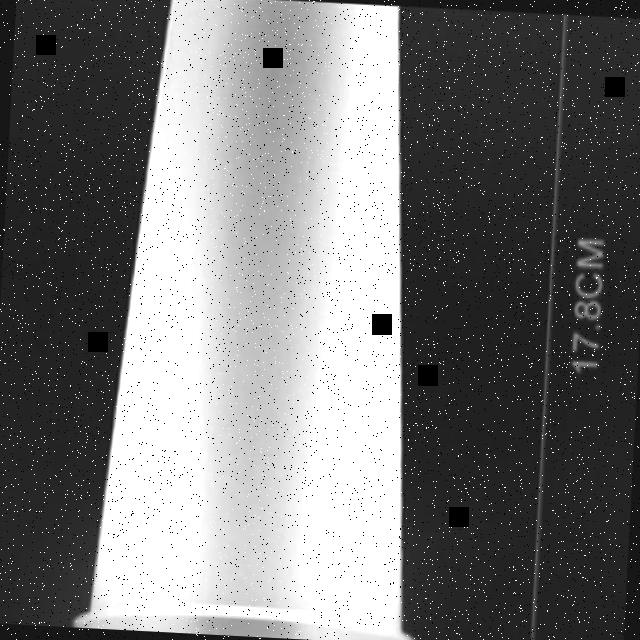plastic_cup: (68, 0, 448, 640)
